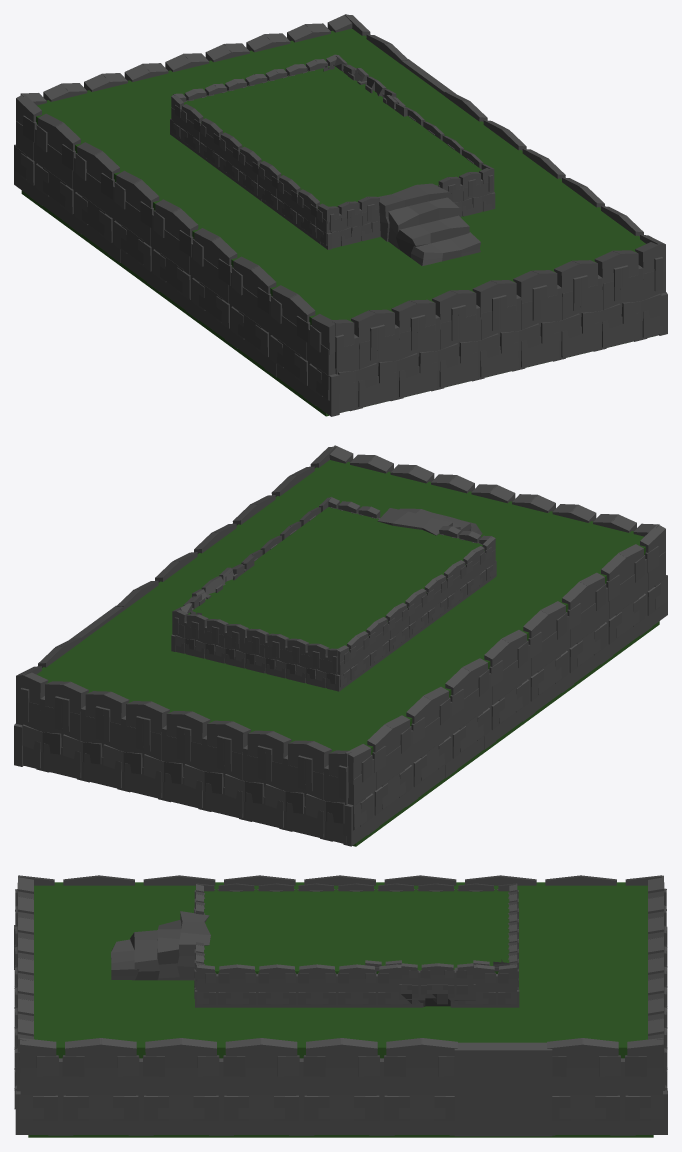
File: Teal_demo_world.fbx
The picture shows the model from 3 angles, top to bottom: view 1: azimuth 30°, elevation 25°; view 2: azimuth 150°, elevation 25°; view 3: azimuth 270°, elevation 25°; orthographic projection. The views are drawn at different scales.
Visible parts, largest first — view 1: Cube.003, Cube; view 2: Cube.003, Cube; view 3: Cube.003, Cube.
Boxes of the visible parts, box(x1,y1,x2,y2) form: Cube.003: box(14, 14, 667, 416); Cube: box(21, 28, 655, 416); Cube.003: box(14, 445, 667, 846); Cube: box(37, 460, 659, 846); Cube.003: box(14, 875, 667, 1136); Cube: box(28, 882, 653, 1137).
Bounding box in the file's own units: 6947 × 2522 × 11239.
